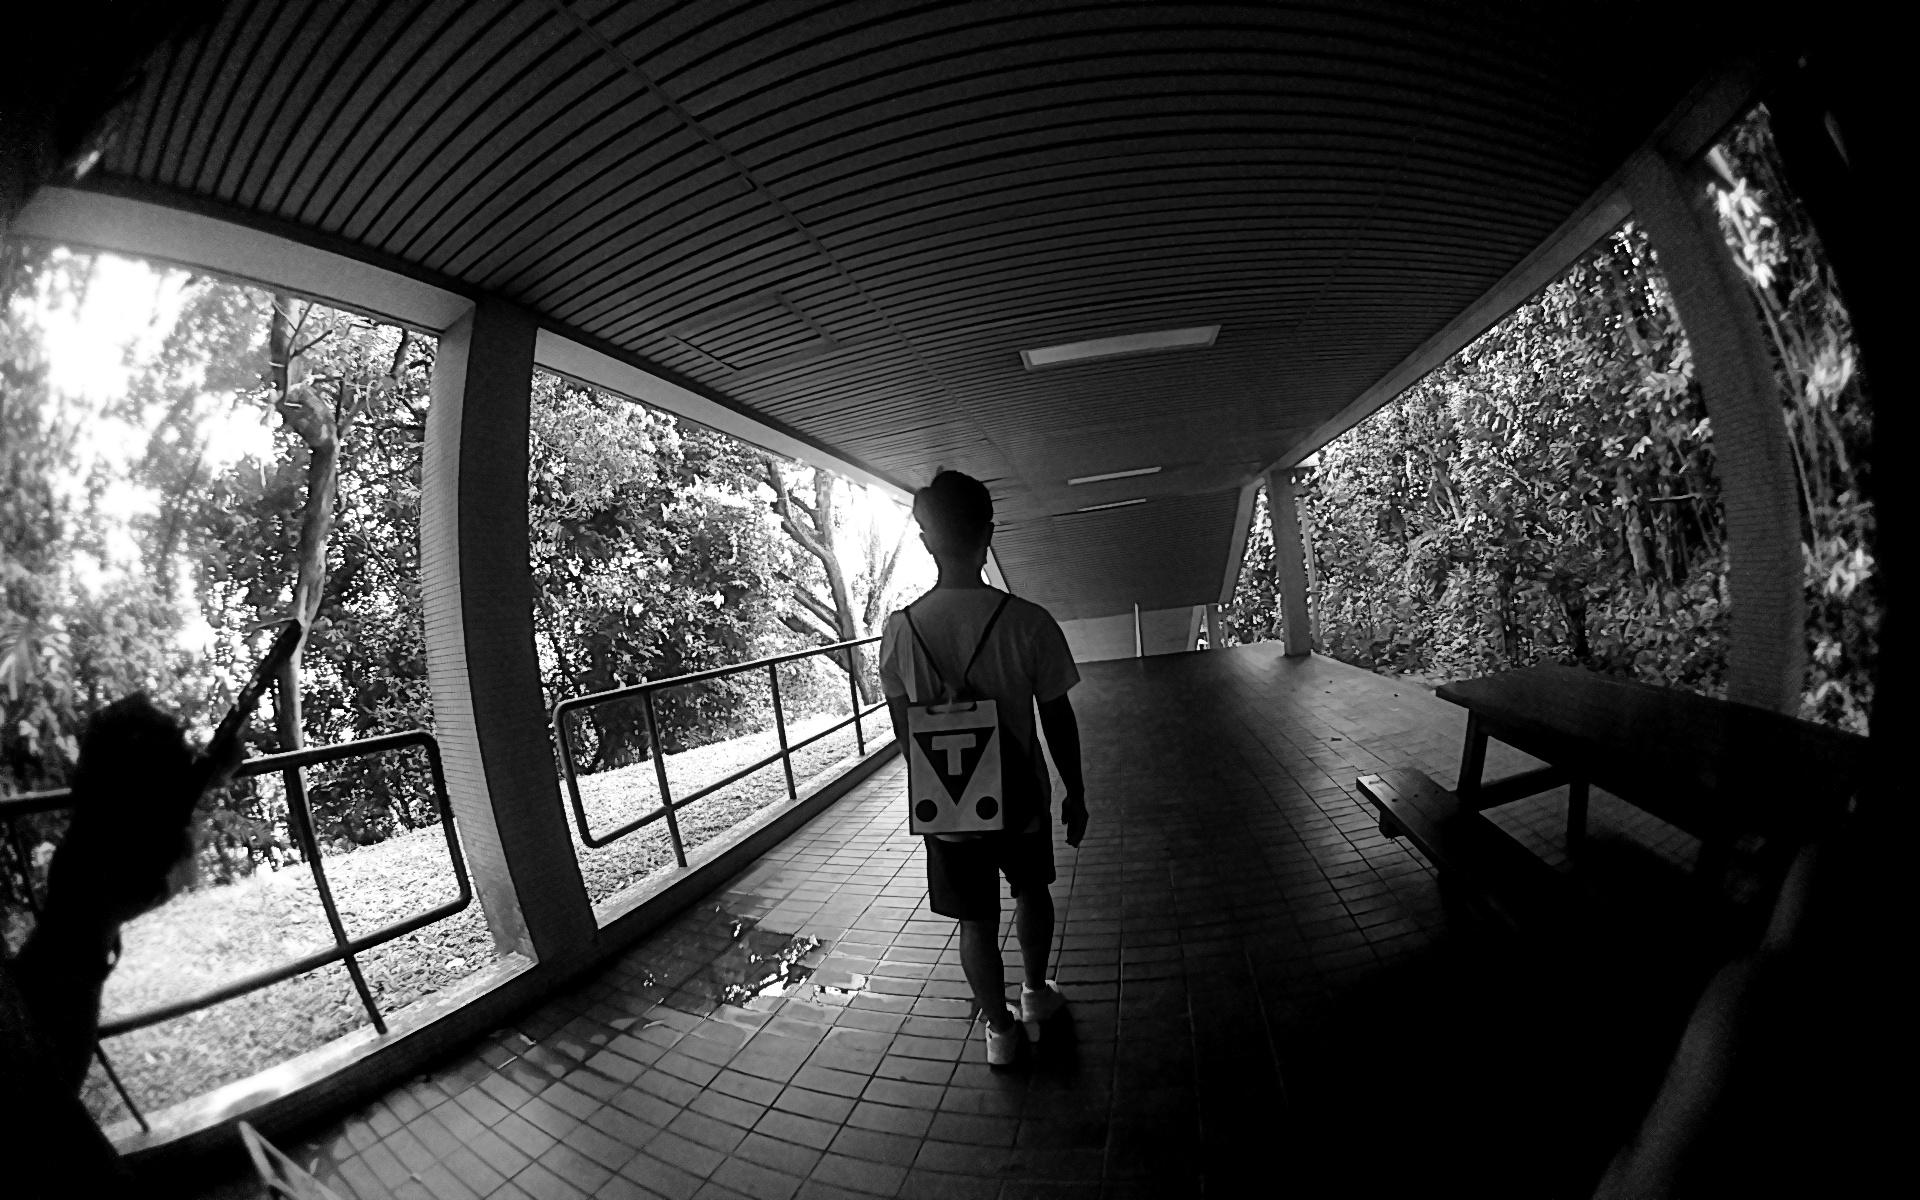fly_lower: (910, 718, 1002, 827)
